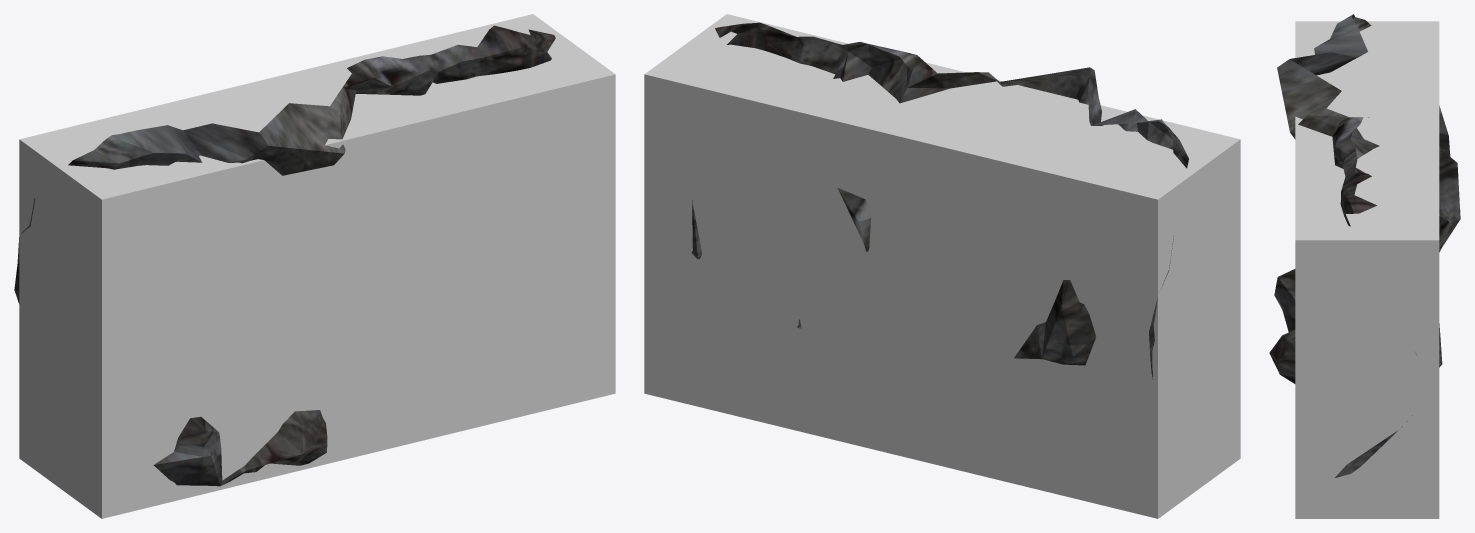
File: Cave Wall 5.fbx
The picture shows the model from 3 angles, left to right: view 1: azimuth 30°, elevation 25°; view 2: azimuth 150°, elevation 25°; view 3: azimuth 270°, elevation 25°; orthographic projection. The views are drawn at different scales.
Parts seen in each view (by area): view 1: Cube.005, Cave Wall 5; view 2: Cube.005, Cave Wall 5; view 3: Cube.005, Cave Wall 5.
Boxes of the visible parts, x1,y1,x2,y2 form: Cube.005: [19, 14, 615, 518]; Cave Wall 5: [14, 25, 555, 486]; Cube.005: [644, 14, 1240, 518]; Cave Wall 5: [691, 22, 1188, 379]; Cube.005: [1295, 21, 1439, 518]; Cave Wall 5: [1269, 14, 1460, 477].
Size of the model in its own units: 2172 by 1440 by 792.
1 material, 1 textured.
